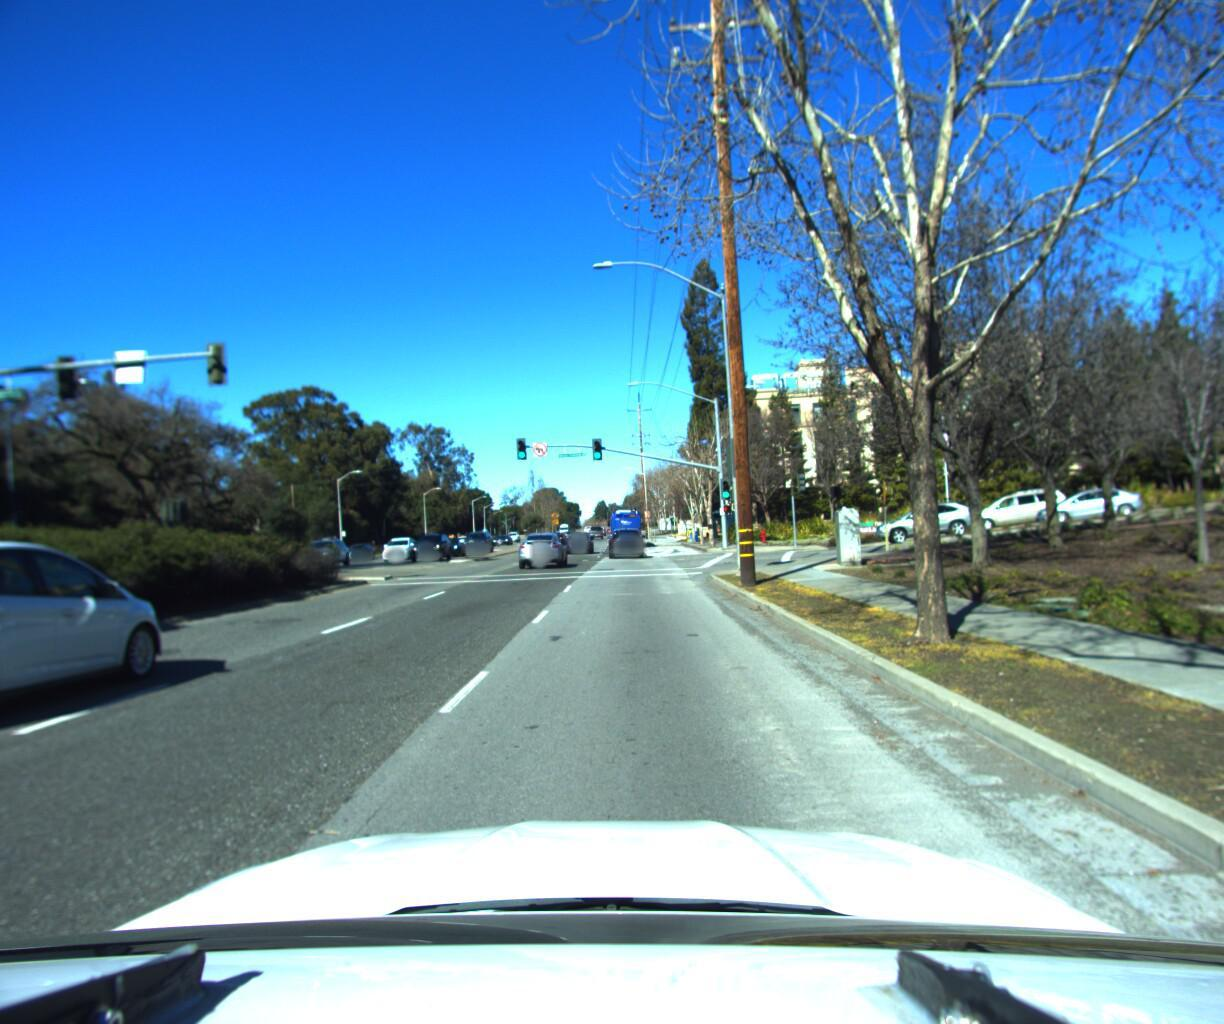bus: (605, 503, 642, 544)
car: (955, 476, 1073, 526), (1024, 479, 1147, 521), (869, 493, 978, 540), (293, 534, 356, 571), (513, 527, 570, 567), (406, 529, 456, 562), (606, 523, 645, 557), (378, 532, 419, 559), (458, 528, 498, 552), (564, 528, 595, 551)
